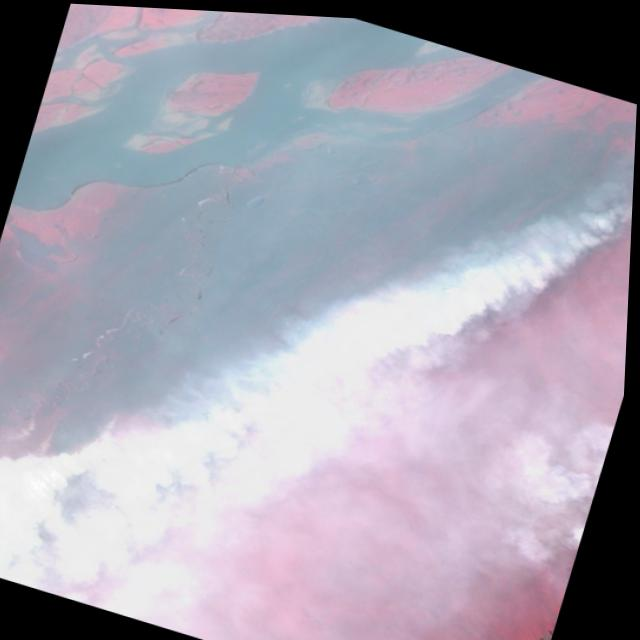fire: (0, 0, 640, 612)
